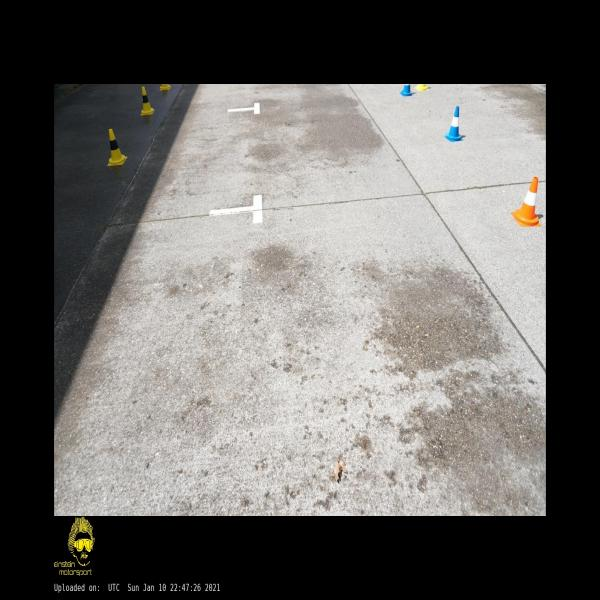blue_cone: (444, 106, 464, 142)
orange_cone: (511, 176, 541, 228)
yellow_cone: (108, 128, 127, 166), (140, 86, 155, 115)
